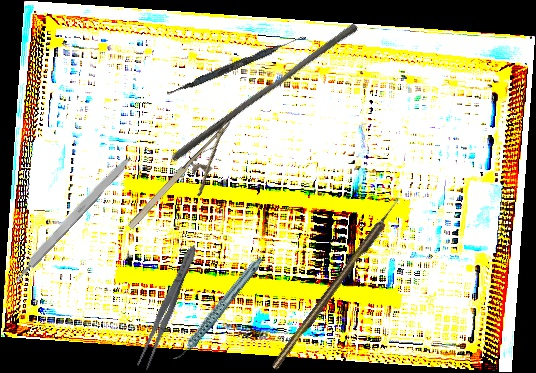Dressing Forceps: (134, 242, 202, 372)
Handpiece: (154, 255, 281, 363)
Hook Surgical: (269, 196, 405, 371)
Needle Holder: (124, 118, 253, 247)
Pusher: (169, 15, 360, 170)
Scalpel Handle: (10, 152, 134, 284)
Spatula Surgical: (165, 30, 307, 101)
